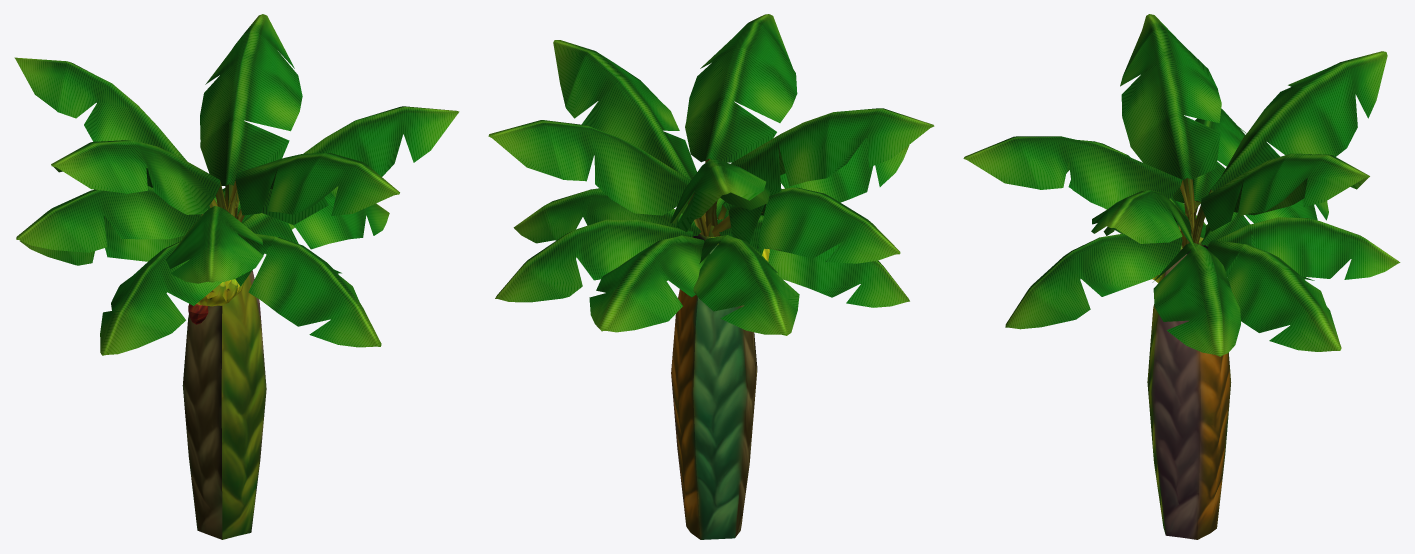
Rendered from BananaTree.fbx.
The picture shows the model from 3 angles, left to right: view 1: azimuth 30°, elevation 25°; view 2: azimuth 150°, elevation 25°; view 3: azimuth 270°, elevation 25°; orthographic projection. The views are drawn at different scales.
Parts seen in each view (by area): view 1: pCylinder42, pPlane10, pPlane6, pPlane15, pPlane16, pPlane14, pPlane9, pPlane8, pPlane5, pPlane7, pPlane13, pPlane11 (+1 smaller); view 2: pCylinder42, pPlane15, pPlane10, pPlane5, pPlane14, pPlane16, pPlane12, pPlane2, pPlane11, pPlane8, pPlane13, pPlane9 (+1 smaller); view 3: pCylinder42, pPlane14, pPlane9, pPlane15, pPlane6, pPlane12, pPlane10, pPlane13, pPlane2, pPlane5, pPlane16, pPlane11.
Boxes of the visible parts, box(x1,y1,x2,y2) form: pCylinder42: box(182, 270, 266, 539); pPlane10: box(200, 14, 302, 185); pPlane6: box(235, 233, 381, 347); pPlane15: box(235, 153, 399, 215); pPlane16: box(16, 187, 201, 252); pPlane14: box(51, 140, 220, 214); pPlane9: box(14, 57, 186, 188); pPlane8: box(100, 241, 221, 355); pPlane5: box(261, 106, 459, 225); pPlane7: box(166, 206, 263, 283); pPlane13: box(242, 192, 389, 254); pPlane11: box(20, 215, 184, 265); pCylinder42: box(671, 234, 757, 539); pPlane15: box(685, 14, 797, 162); pPlane10: box(488, 120, 690, 215); pPlane5: box(553, 40, 696, 179); pPlane14: box(731, 108, 934, 195); pPlane16: box(729, 187, 900, 263); pPlane12: box(495, 219, 692, 302); pPlane2: box(589, 235, 710, 332); pPlane11: box(693, 235, 799, 335); pPlane8: box(717, 215, 909, 307); pPlane13: box(513, 188, 701, 243); pPlane9: box(670, 159, 770, 232); pCylinder42: box(1147, 237, 1231, 539); pPlane14: box(1120, 14, 1221, 179); pPlane9: box(1211, 51, 1387, 191); pPlane15: box(963, 136, 1182, 209); pPlane6: box(1005, 233, 1182, 329); pPlane12: box(1207, 240, 1341, 351); pPlane10: box(1201, 153, 1369, 231); pPlane13: box(1152, 243, 1240, 356); pPlane2: box(1205, 217, 1400, 279); pPlane5: box(1091, 190, 1198, 254); pPlane16: box(1172, 108, 1246, 202); pPlane11: box(1201, 198, 1328, 247).
Bounding box in the file's own units: 22.33 × 23.64 × 21.84.
4 materials, 4 textured.
